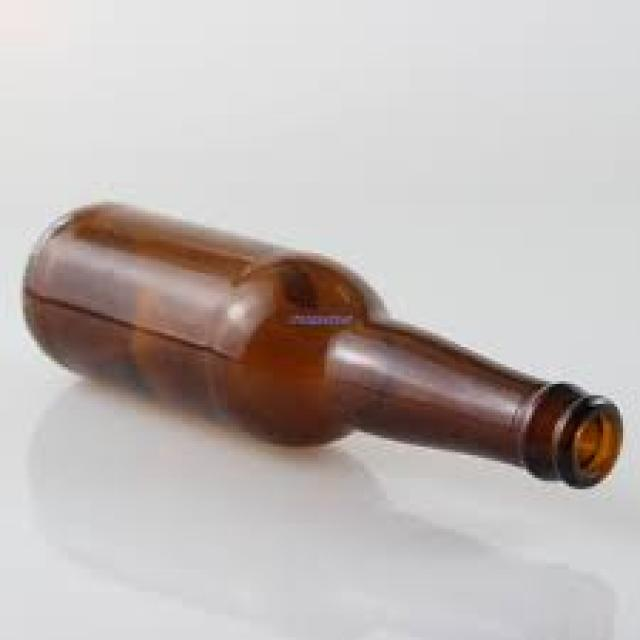glass: (26, 202, 620, 486)
